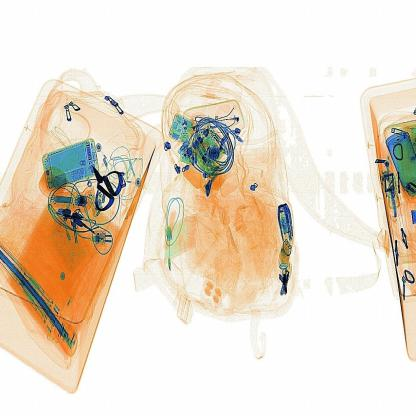gun: (78, 152, 134, 214)
